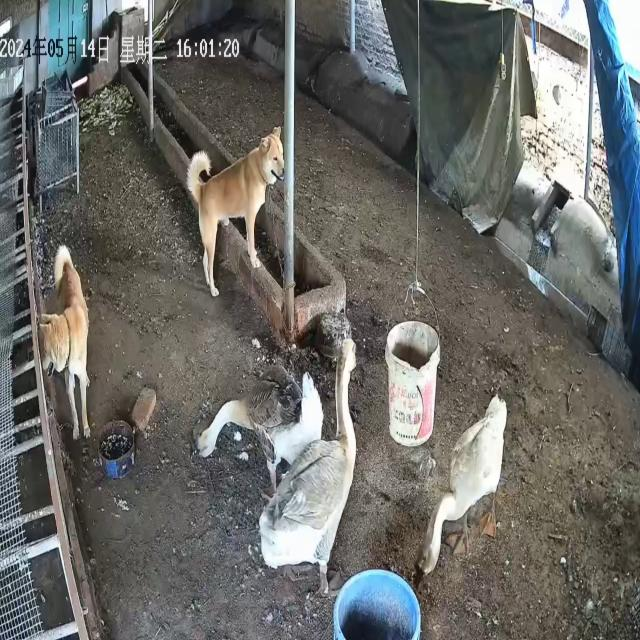dog: (187, 125, 286, 298), (39, 244, 92, 442)
